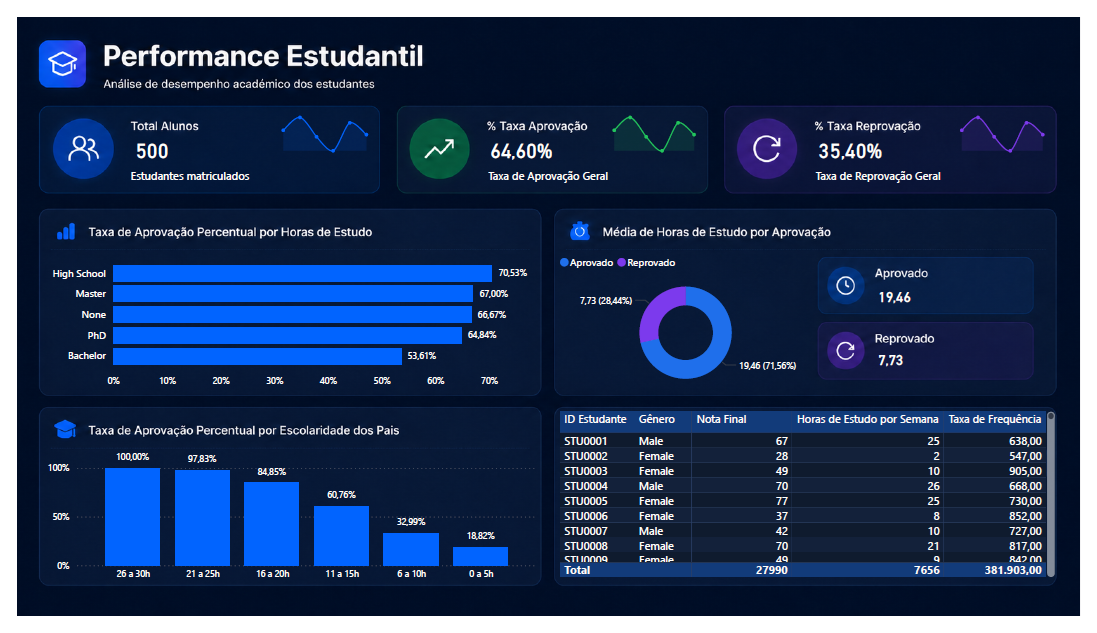

The page's visual inventory and layout, read from the dashboard file:
{"tool":"powerbi","page":{"name":"student_performance","canvas":[1280,720],"ordinal":0},"visuals":[{"type":"cardVisual","fields":{"Data":["_Medidas.01. Total Alunos"]},"box":[124.4,121.7,300,60],"z":1000},{"type":"cardVisual","fields":{"Data":["_Medidas.04.Taxa Aprovação %"]},"box":[552.4,121.7,299.8,60.2],"z":2000},{"type":"cardVisual","fields":{"Data":["_Medidas.05. Taxa Reprovação %"]},"box":[947.8,121.7,299.8,60.2],"z":3000},{"type":"columnChart","title":"Taxa de Aprovação Percentual por Horas de Estudo","fields":{"Category":["student_performance.Faixa Horas"],"Y":["_Medidas.04.Taxa Aprovação %"]},"box":[31.4,509.2,599.6,179.3],"z":5000},{"type":"barChart","title":"Taxa de Aprovação Percentual por Escolaridade dos Pais","fields":{"Category":["student_performance.parent_education"],"Y":["_Medidas.04.Taxa Aprovação %"]},"box":[31.4,274.9,599.6,180.7],"z":6000},{"type":"donutChart","fields":{"Series":["student_performance.Coluna Aprovação"],"Y":["_Medidas.06. Media Horas Estudo"]},"box":[648,274.9,314.2,180.7],"z":7000},{"type":"tableEx","fields":{"Values":["student_performance.student_id","student_performance.gender","_Medidas.Nota Final","_Medidas.Horas de Estudo por Semana","_Medidas.Frquência"]},"box":[648,470,607.4,209.5],"z":8000},{"type":"cardVisual","fields":{"Data":["_Medidas.06. Media Horas Estudo"]},"box":[1019.8,302.4,205.5,57.6],"z":9000},{"type":"cardVisual","fields":{"Data":["_Medidas.06. Media Horas Estudo"]},"box":[1019.8,378.3,205.5,56.3],"z":10000},{"type":"PBI_CV_25997FEB_F466_44FA_B562_AC4063283C4C","fields":{"measure":["_Medidas.01. Total Alunos"],"axis":["student_performance.Faixa Horas"]},"box":[303.7,104.7,136.1,64.1],"z":12000},{"type":"PBI_CV_25997FEB_F466_44FA_B562_AC4063283C4C","fields":{"measure":["_Medidas.01. Total Alunos"],"axis":["student_performance.Faixa Horas"]},"box":[703,104.7,132.2,64.1],"z":13000},{"type":"PBI_CV_25997FEB_F466_44FA_B562_AC4063283C4C","fields":{"measure":["_Medidas.01. Total Alunos"],"axis":["student_performance.Faixa Horas"]},"box":[1121.9,104.7,133.5,64.1],"z":14000},{"type":"actionButton","box":[132.5,169.9,289.4,40.3],"z":14001},{"type":"actionButton","box":[563,169.9,289.4,40.3],"z":14002},{"type":"actionButton","box":[957.6,169.9,289.4,40.3],"z":14003}]}

Visuals, with their boxes in screenshot pixels (x1, y1, x2, y2), scaled from the page's 1280x720 canvas onto the 1097x633 screenshot:
cardVisual - _Medidas.01. Total Alunos: 107, 107, 364, 160
cardVisual - _Medidas.04.Taxa Aprovação %: 473, 107, 730, 160
cardVisual - _Medidas.05. Taxa Reprovação %: 812, 107, 1069, 160
"Taxa de Aprovação Percentual por Horas de Estudo" columnChart: 27, 448, 541, 605
"Taxa de Aprovação Percentual por Escolaridade dos Pais" barChart: 27, 242, 541, 401
donutChart - student_performance.Coluna Aprovação x _Medidas.06. Media Horas Estudo: 555, 242, 825, 401
tableEx - student_performance.student_id x student_performance.gender: 555, 413, 1076, 597
cardVisual - _Medidas.06. Media Horas Estudo: 874, 266, 1050, 316
cardVisual - _Medidas.06. Media Horas Estudo: 874, 333, 1050, 382
PBI_CV_25997FEB_F466_44FA_B562_AC4063283C4C - _Medidas.01. Total Alunos x student_performance.Faixa Horas: 260, 92, 377, 148
PBI_CV_25997FEB_F466_44FA_B562_AC4063283C4C - _Medidas.01. Total Alunos x student_performance.Faixa Horas: 602, 92, 716, 148
PBI_CV_25997FEB_F466_44FA_B562_AC4063283C4C - _Medidas.01. Total Alunos x student_performance.Faixa Horas: 962, 92, 1076, 148
actionButton: 114, 149, 362, 185
actionButton: 483, 149, 731, 185
actionButton: 821, 149, 1069, 185
